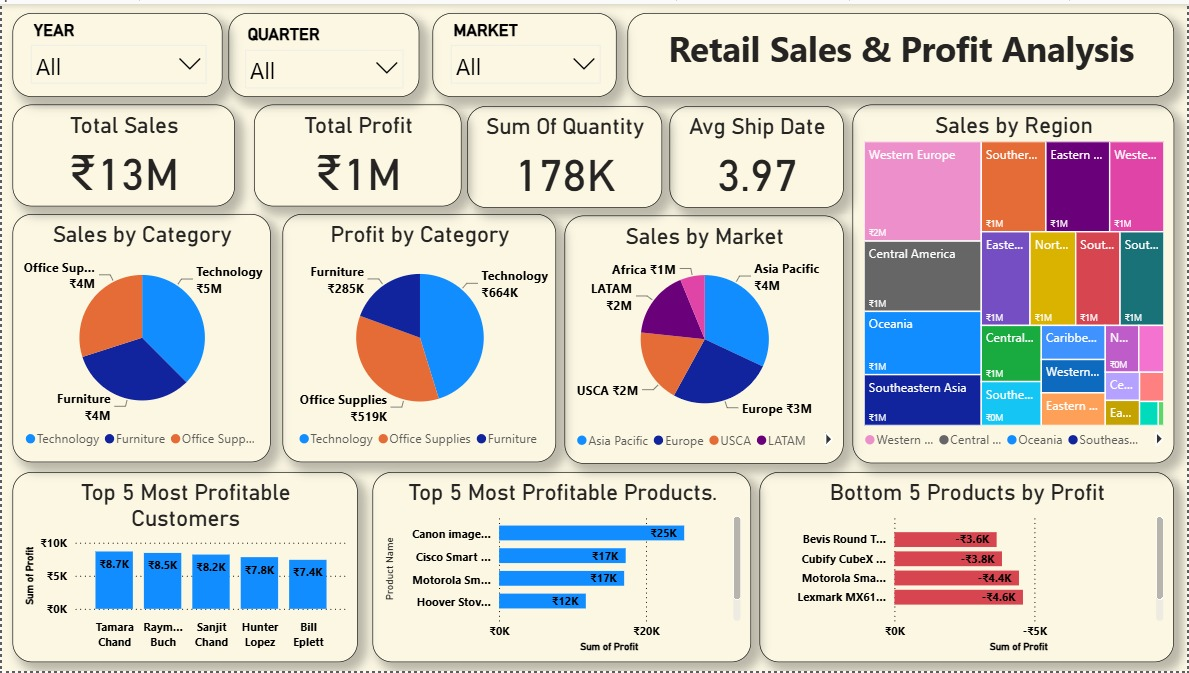

The page's visual inventory and layout, read from the dashboard file:
{"tool":"powerbi","page":{"name":"project `","canvas":[1280,720],"ordinal":0},"visuals":[{"type":"slicer","fields":{"Values":["Orders.Order Date.Variation.Date Hierarchy.Year"]},"box":[10.9,9.6,226.7,90.5],"z":0},{"type":"card","title":"Total Profit ","fields":{"Values":["Sum(Orders.Profit)"]},"box":[271.4,108.5,224.3,109.7],"z":1000},{"type":"card","title":"Sum Of Quantity","fields":{"Values":["Sum(Orders.Quantity)"]},"box":[501.7,108.5,211.1,109.7],"z":2000},{"type":"card","title":"Avg Ship Date","fields":{"Values":["Avg(Orders.avgdel)"]},"box":[721.2,109.7,188.1,109.7],"z":3000},{"type":"card","title":"Total Sales","fields":{"Values":["Sum(Orders.Sales)"]},"box":[10.9,108.5,240,109.7],"z":4000},{"type":"pieChart","title":"Sales by Category","fields":{"Y":["Sum(Orders.Sales)"],"Category":["Orders.Category"]},"box":[10.9,226.7,278.6,267.7],"z":5000},{"type":"pieChart","title":"Profit by Category","fields":{"Category":["Orders.Category"],"Y":["Sum(Orders.Profit)"]},"box":[302.7,226.7,295.5,267.7],"z":6000},{"type":"pieChart","title":"Sales by Market ","fields":{"Y":["Sum(Orders.Sales)"],"Category":["Orders.Market"]},"box":[607.8,227.9,301.5,267.7],"z":7000},{"type":"columnChart","title":"Top 5 Most Profitable Customers","fields":{"Y":["Sum(Orders.Profit)"],"Category":["Orders.Customer Name"]},"box":[10.9,505.3,372.7,205],"z":8000},{"type":"barChart","title":"Top 5 Most Profitable Products.","fields":{"Category":["Orders.Product Name"],"Y":["Sum(Orders.Profit)"]},"box":[399.2,505.3,408.8,205],"z":9000},{"type":"barChart","title":"Bottom 5 Products by Profit","fields":{"Category":["Orders.Product Name"],"Y":["Sum(Orders.Profit)"]},"box":[817.7,505.3,447.4,205],"z":10000},{"type":"textbox","box":[675.4,9.6,589.7,90.5],"z":11000},{"type":"slicer","fields":{"Values":["Orders.Order Date.Variation.Date Hierarchy.Quarter"]},"box":[244.8,9.6,206.2,90.5],"z":12000},{"type":"slicer","fields":{"Values":["Orders.Market"]},"box":[464.3,9.6,199,90.5],"z":13000},{"type":"treemap","title":"Sales by Region","fields":{"Group":["Orders.Region"],"Values":["Sum(Orders.Sales)"]},"box":[917.8,108.5,347.3,387.1],"z":14000}]}

Visuals, with their boxes in screenshot pixels (x1, y1, x2, y2), scaled from the page's 1280x720 canvas onto the 1189x673 screenshot:
slicer - Orders.Order Date.Variation.Date Hierarchy.Year: bbox=(10, 9, 221, 94)
"Total Profit " card: bbox=(252, 101, 460, 204)
"Sum Of Quantity" card: bbox=(466, 101, 662, 204)
"Avg Ship Date" card: bbox=(670, 103, 845, 205)
"Total Sales" card: bbox=(10, 101, 233, 204)
"Sales by Category" pieChart: bbox=(10, 212, 269, 462)
"Profit by Category" pieChart: bbox=(281, 212, 556, 462)
"Sales by Market " pieChart: bbox=(565, 213, 845, 463)
"Top 5 Most Profitable Customers" columnChart: bbox=(10, 472, 356, 664)
"Top 5 Most Profitable Products." barChart: bbox=(371, 472, 751, 664)
"Bottom 5 Products by Profit" barChart: bbox=(760, 472, 1175, 664)
textbox: bbox=(627, 9, 1175, 94)
slicer - Orders.Order Date.Variation.Date Hierarchy.Quarter: bbox=(227, 9, 419, 94)
slicer - Orders.Market: bbox=(431, 9, 616, 94)
"Sales by Region" treemap: bbox=(853, 101, 1175, 463)
